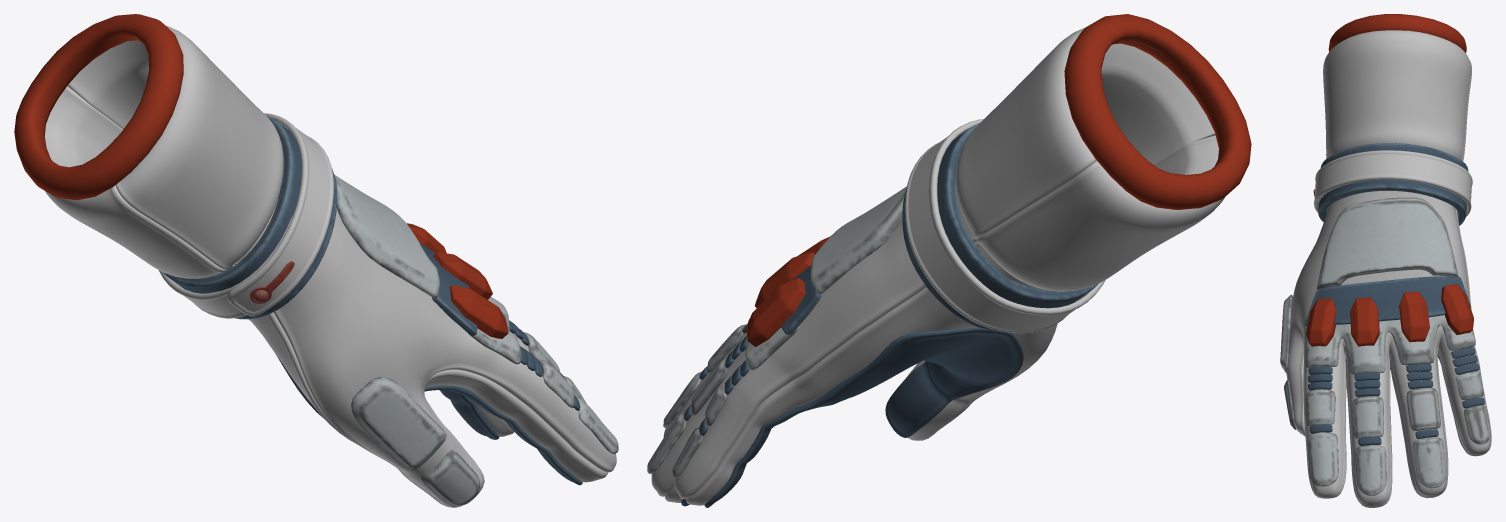
The model's file is gloves.glb.
3 views of the same model, side by side, from view 1: azimuth 30°, elevation 25°; view 2: azimuth 150°, elevation 25°; view 3: azimuth 270°, elevation 25° (orthographic). The views are drawn at different scales.
Visible parts, largest first — view 1: GloveLf_Geo; view 2: GloveLf_Geo; view 3: GloveLf_Geo.
Boxes of the visible parts, x1,y1,x2,y2 form: GloveLf_Geo: [14, 14, 618, 507]; GloveLf_Geo: [647, 14, 1251, 507]; GloveLf_Geo: [1280, 14, 1491, 507].
Bounding box in the file's own units: 0.2695 × 0.2471 × 0.1321.
1 material, 1 textured.
